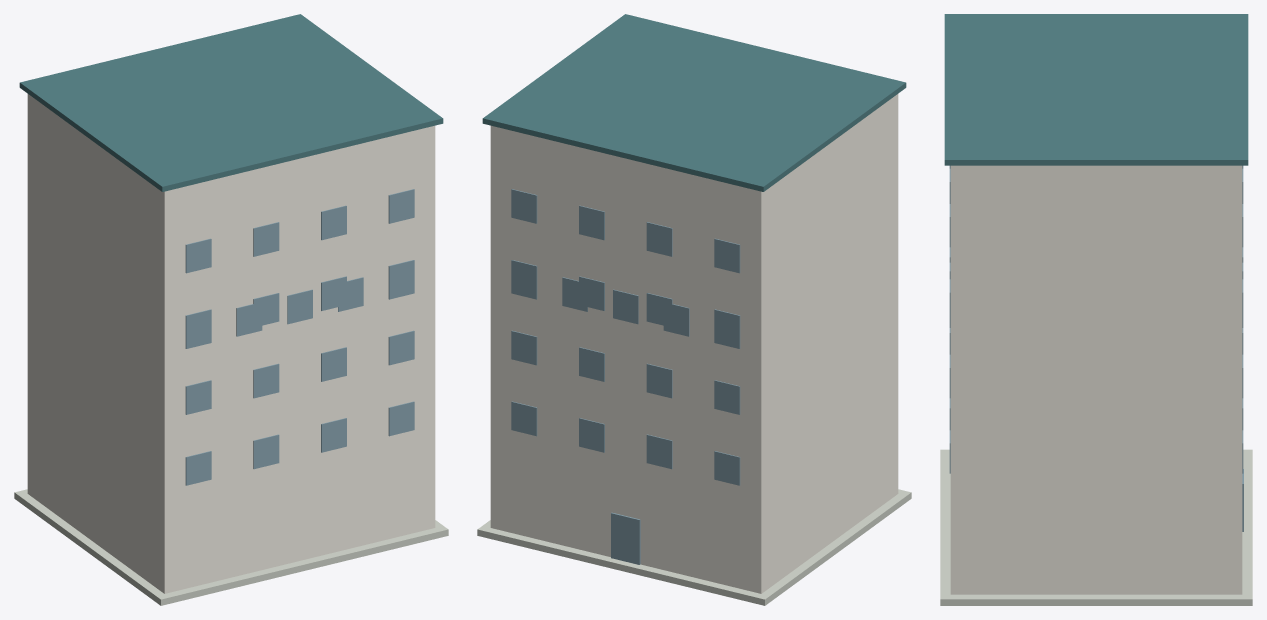
The model's file is city_midrise.glb.
3 renders of one model, left to right at view 1: azimuth 30°, elevation 25°; view 2: azimuth 150°, elevation 25°; view 3: azimuth 270°, elevation 25°, orthographic. The views are drawn at different scales.
Visible parts, largest first — view 1: city_midrise__walls, city_midrise__roof, city_midrise__plinth, city_midrise__window.010, city_midrise__window.020, city_midrise__window.040, city_midrise__window.012, city_midrise__window.016, city_midrise__window.018, city_midrise__window.024, city_midrise__window.034, city_midrise__window.036 (+10 smaller); view 2: city_midrise__walls, city_midrise__roof, city_midrise__plinth, city_midrise__front_door, city_midrise__window.011, city_midrise__window.021, city_midrise__window.041, city_midrise__window.013, city_midrise__window.017, city_midrise__window.019, city_midrise__window.025, city_midrise__window.035 (+11 smaller); view 3: city_midrise__walls, city_midrise__roof, city_midrise__plinth.
Part boxes in pixels (x1,y1,x2,y2): city_midrise__walls: (27,94,435,593); city_midrise__roof: (19,14,443,191); city_midrise__plinth: (14,489,448,605); city_midrise__window.010: (185,451,211,485); city_midrise__window.020: (253,363,279,398); city_midrise__window.040: (388,189,414,223); city_midrise__window.012: (253,434,279,469); city_midrise__window.016: (388,401,414,436); city_midrise__window.018: (185,380,211,414); city_midrise__window.024: (388,330,414,365); city_midrise__window.034: (185,238,211,273); city_midrise__window.036: (253,222,279,256); city_midrise__walls: (490,94,898,593); city_midrise__roof: (482,14,906,191); city_midrise__plinth: (477,489,911,605); city_midrise__front_door: (611,512,640,564); city_midrise__window.011: (714,451,740,485); city_midrise__window.021: (646,363,672,398); city_midrise__window.041: (511,189,537,223); city_midrise__window.013: (646,434,672,469); city_midrise__window.017: (511,401,537,436); city_midrise__window.019: (714,380,740,414); city_midrise__window.025: (511,330,537,365); city_midrise__window.035: (714,238,740,273); city_midrise__walls: (950,165,1242,594); city_midrise__roof: (944,14,1248,165); city_midrise__plinth: (940,449,1252,605).
Size of the model in its own units: 17 by 23.55 by 15.
